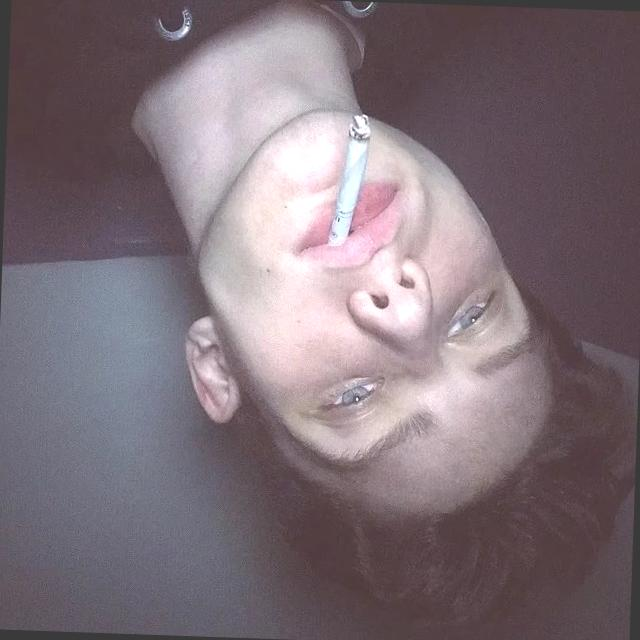smoke: (321, 109, 374, 253)
